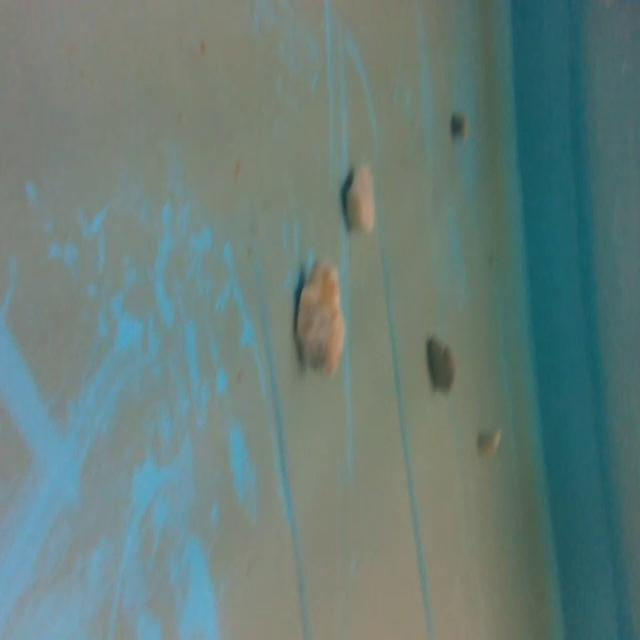rock: (294, 260, 346, 378), (341, 161, 385, 238), (423, 332, 456, 393), (449, 111, 469, 142)
